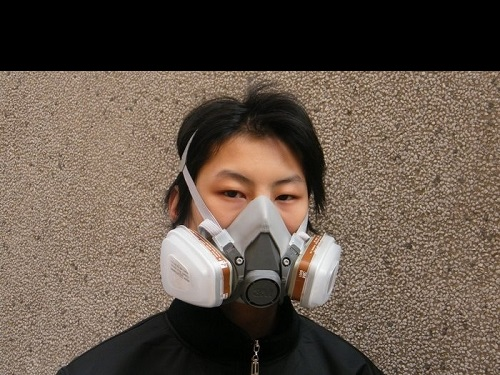face_mask: (193, 137, 310, 280)
